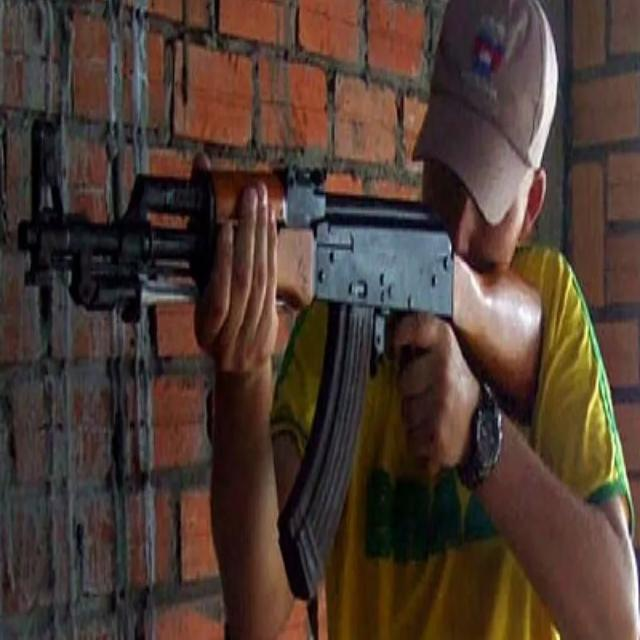weapon: (16, 119, 544, 601)
